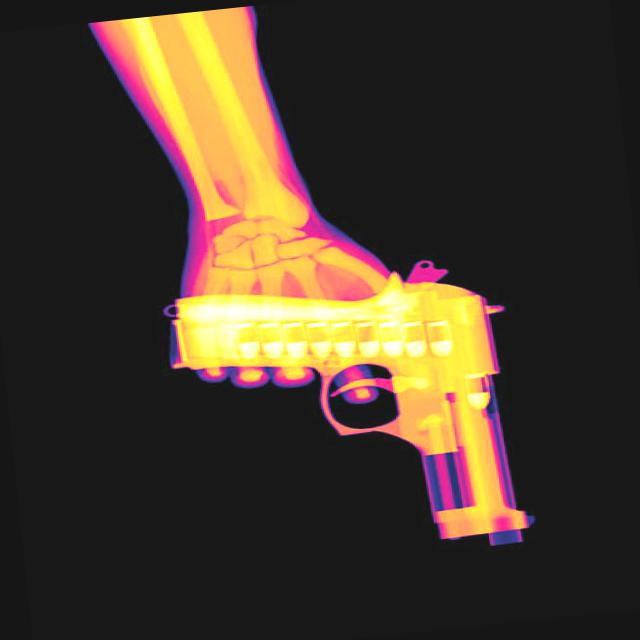handgun: (156, 248, 538, 580)
